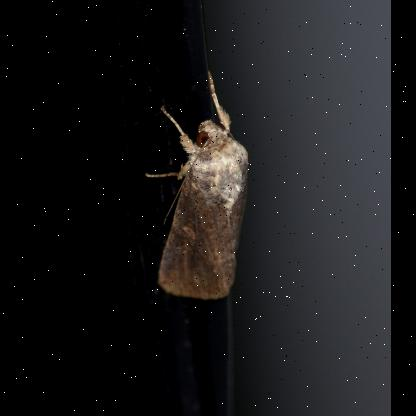Fall Armyworm Moth: (141, 68, 252, 304)
